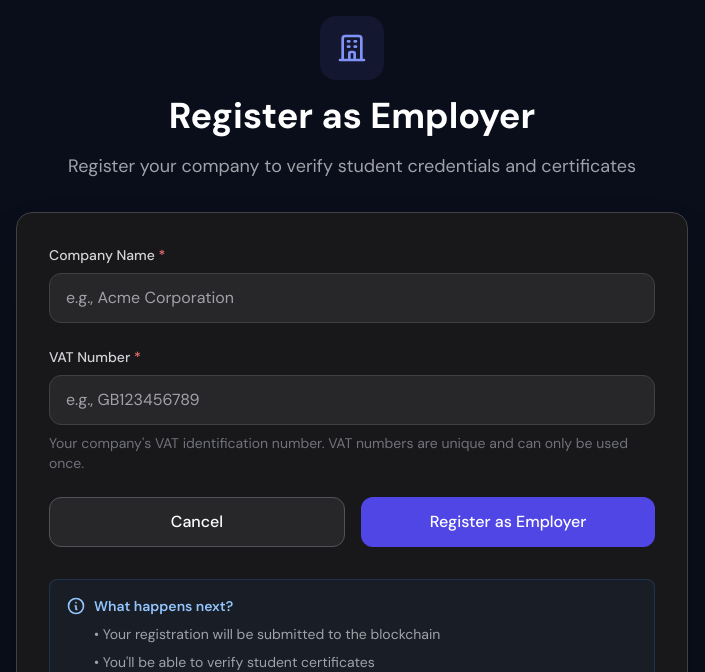
Test: EmployerRegister VAT validation messaging › shows explicit uniqueness/admin message when VAT is already registered
Type "GB123456789" into the field labelled "VAT Number *" at (352, 400), box [49,375,655,425]
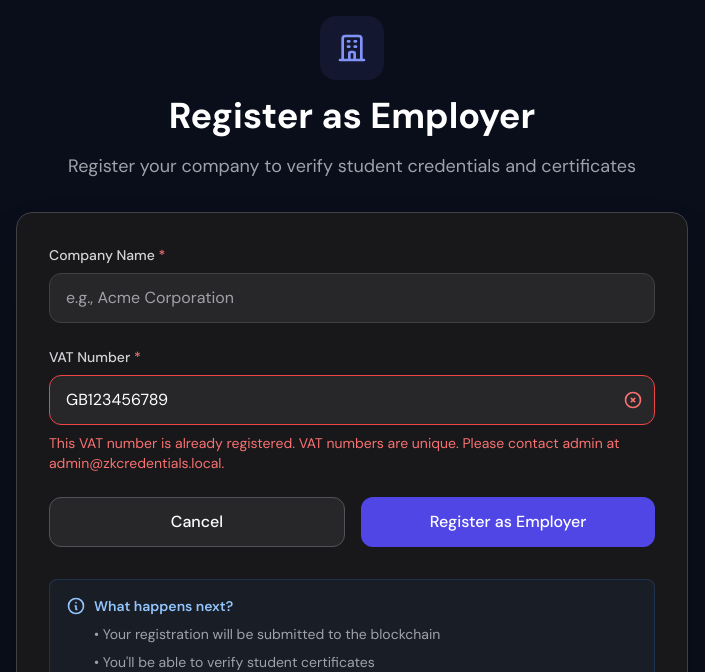
Expected: the text "Please contact admin at" is shown, [49,434,619,452]
